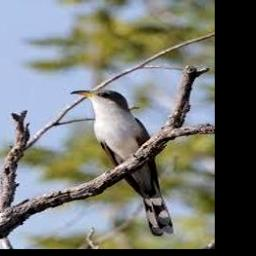Cuckoo: (71, 90, 174, 237)
